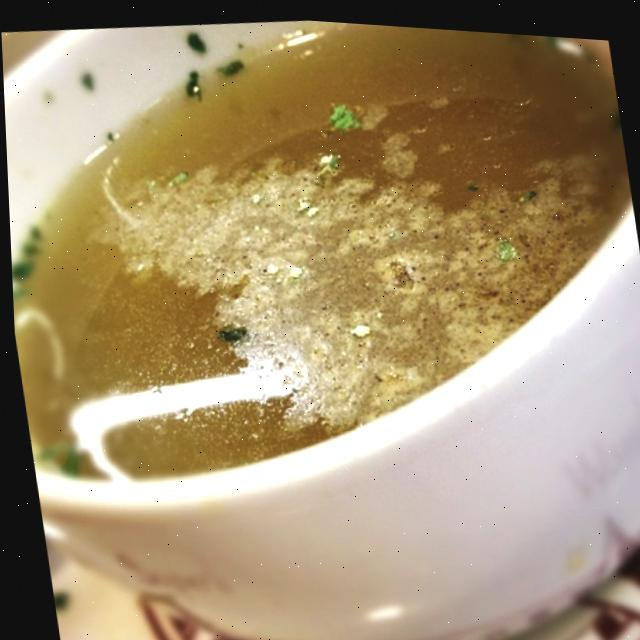汤锅炖物: (0, 0, 640, 599)
